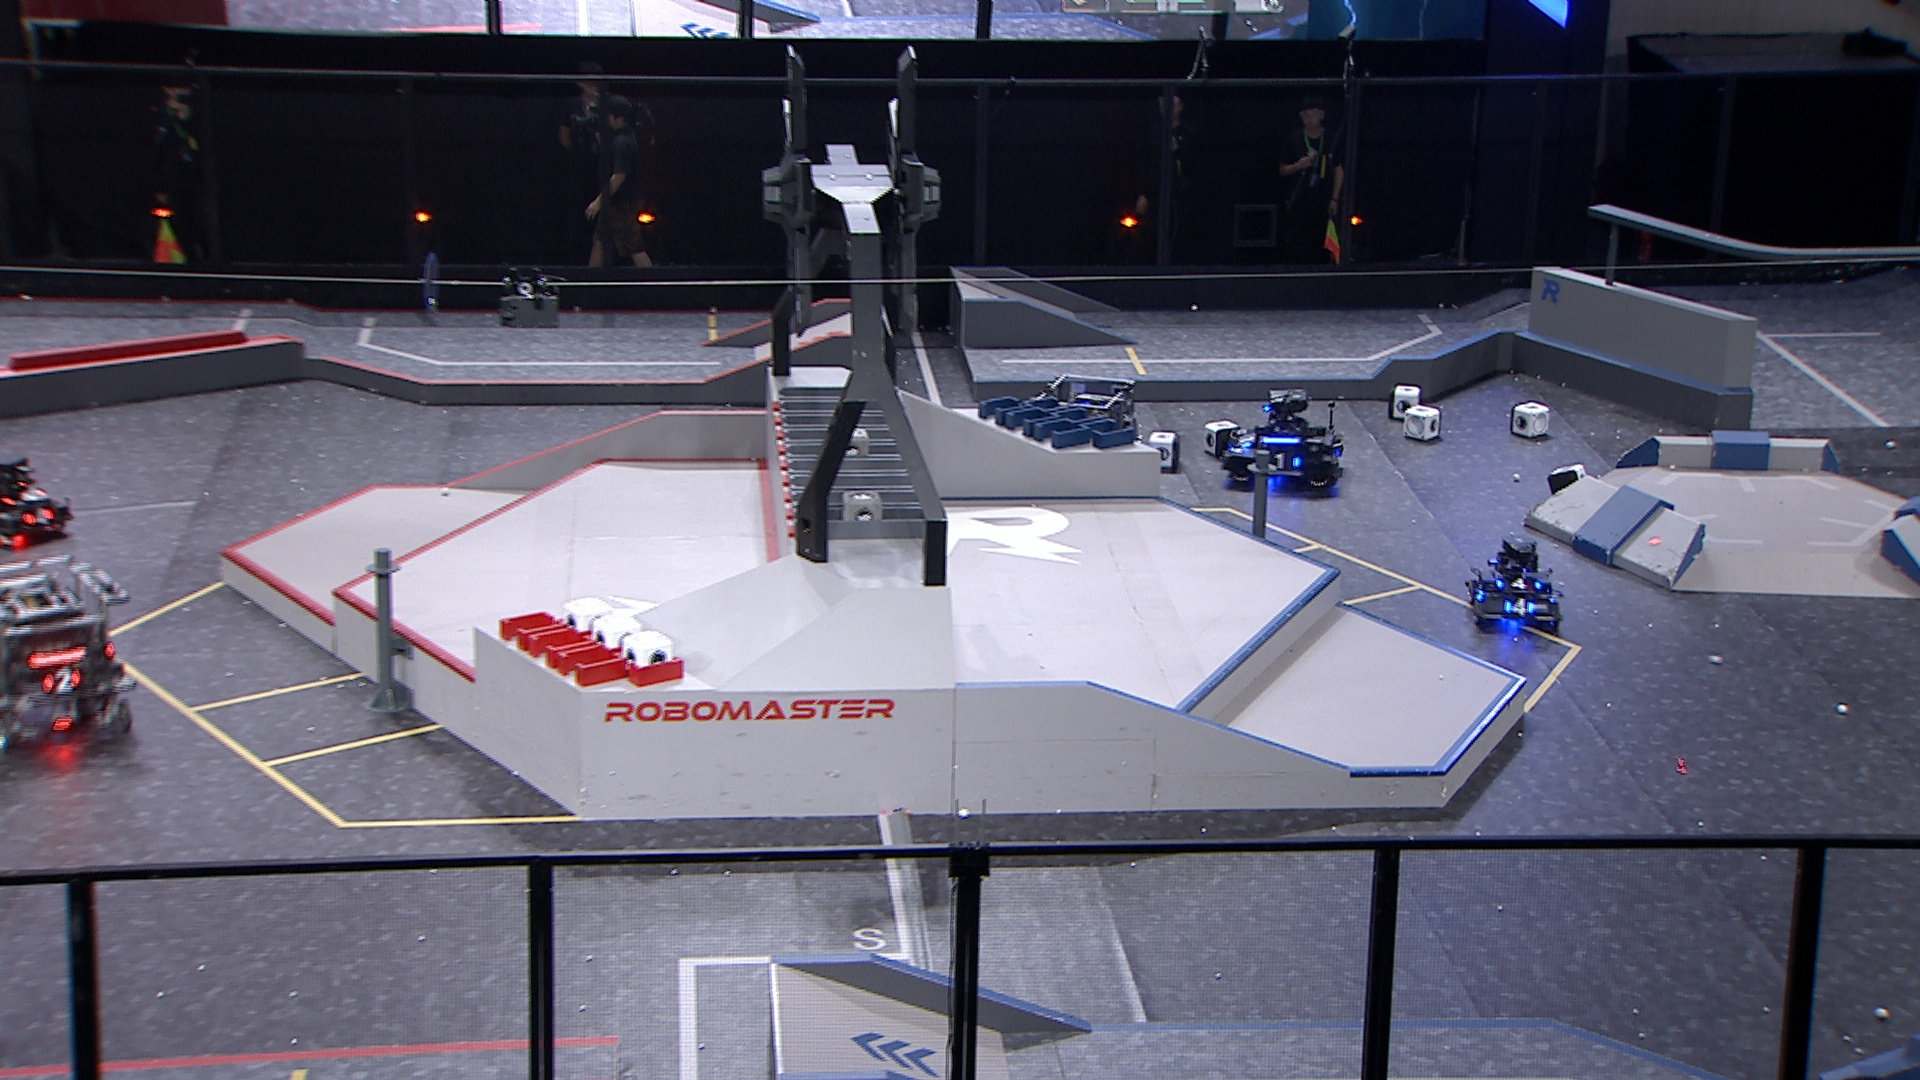armor: (44, 669, 80, 694), (1266, 452, 1304, 471), (7, 488, 41, 505), (1503, 597, 1532, 617), (1501, 576, 1534, 593), (1236, 429, 1254, 452), (24, 508, 50, 524)
car: (1025, 371, 1145, 489), (1218, 386, 1346, 495), (1465, 533, 1563, 629)
